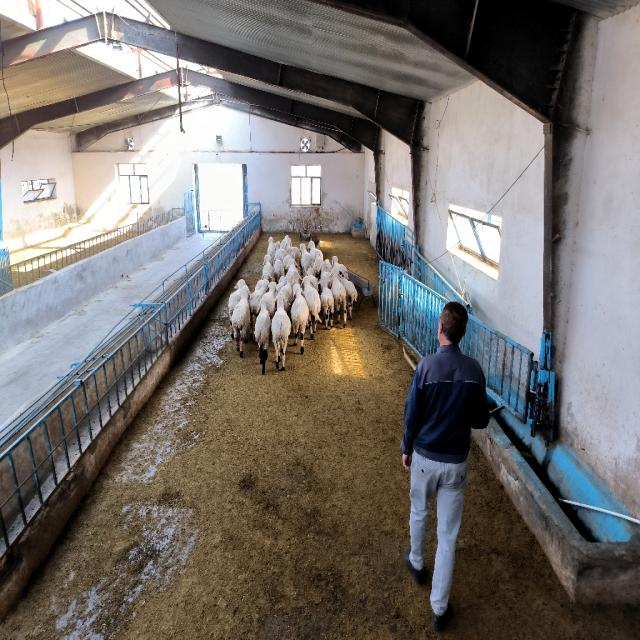sheep: (271, 292, 291, 369), (231, 285, 250, 357), (291, 283, 309, 354), (255, 300, 271, 374), (249, 280, 269, 334), (304, 277, 321, 339), (331, 270, 346, 326), (320, 273, 334, 328), (228, 278, 245, 322), (260, 282, 276, 318), (285, 258, 300, 287), (300, 243, 314, 273), (331, 255, 349, 278), (274, 250, 285, 282), (262, 255, 274, 279)
